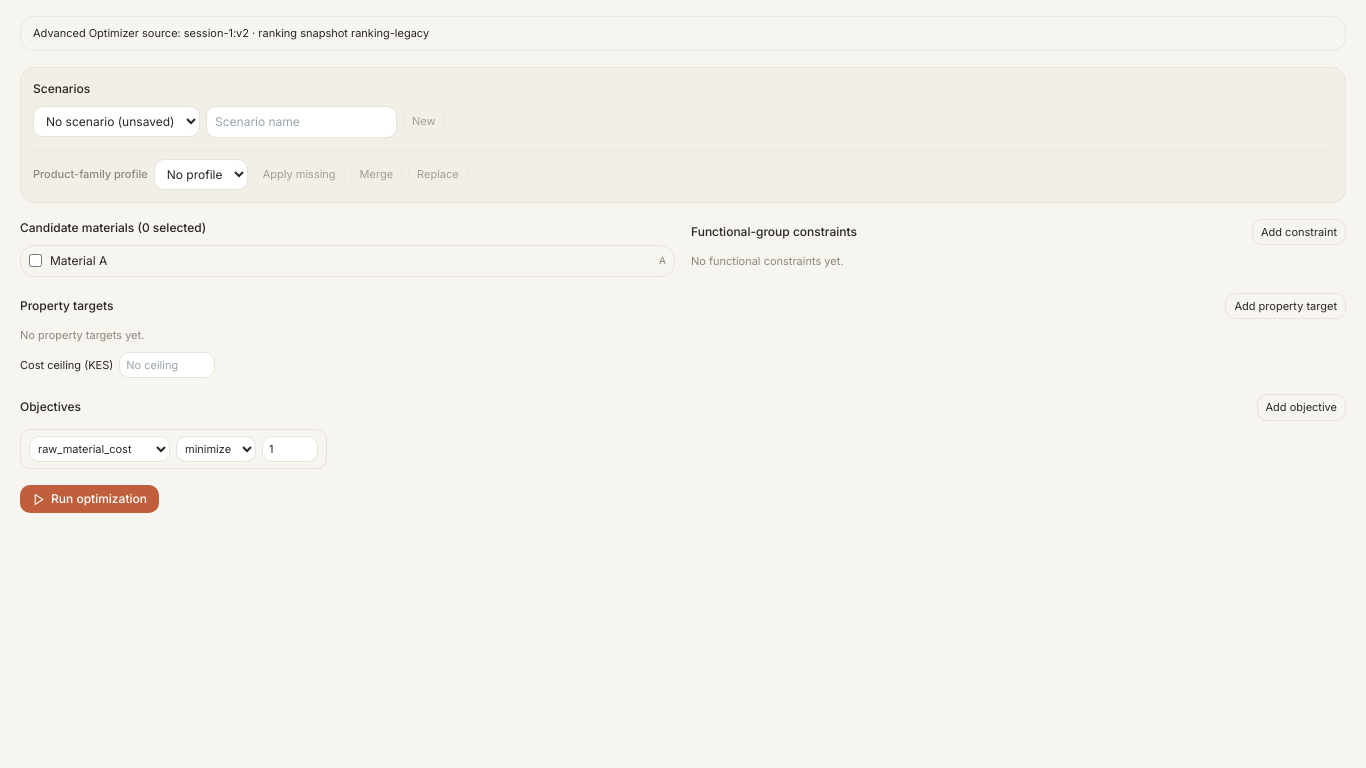
it: AdvancedOptimizerPanel — run and result rendering › refuses a historical ranking link without an exact saved source version before invoking the solver
The image size is (1366, 768).
expect the text "Material A" is shown: met, box x1=50 y1=252 x2=107 y2=270
Click the checkbox labelled "Material A A" at (36, 260), box x1=29 y1=254 x2=42 y2=267
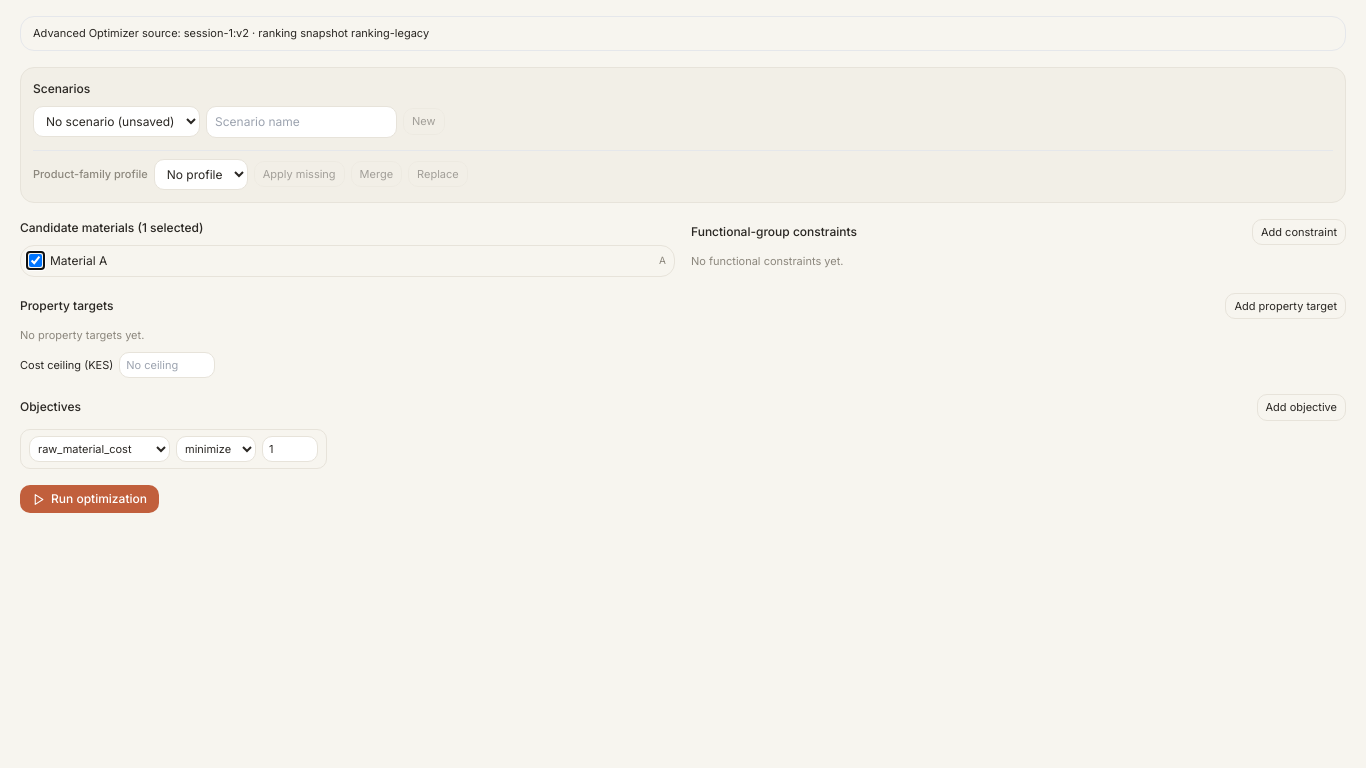
Click the button "Run optimization" at (90, 499), box x1=20 y1=485 x2=159 y2=513
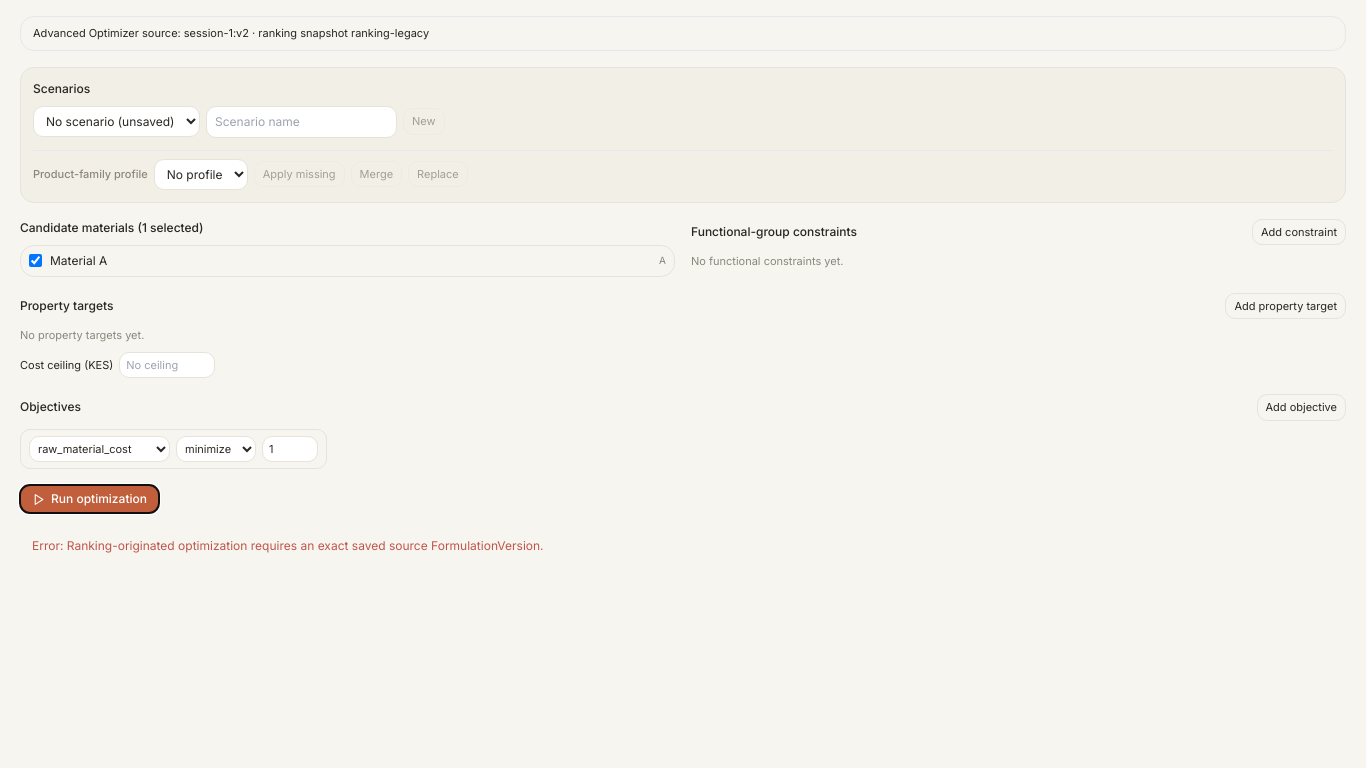
expect the 2nd message shows "exact saved source FormulationVersion": met, box x1=32 y1=538 x2=544 y2=553
